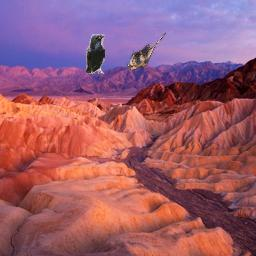Crow: (86, 34, 105, 74)
Cuckoo: (126, 32, 166, 70)
